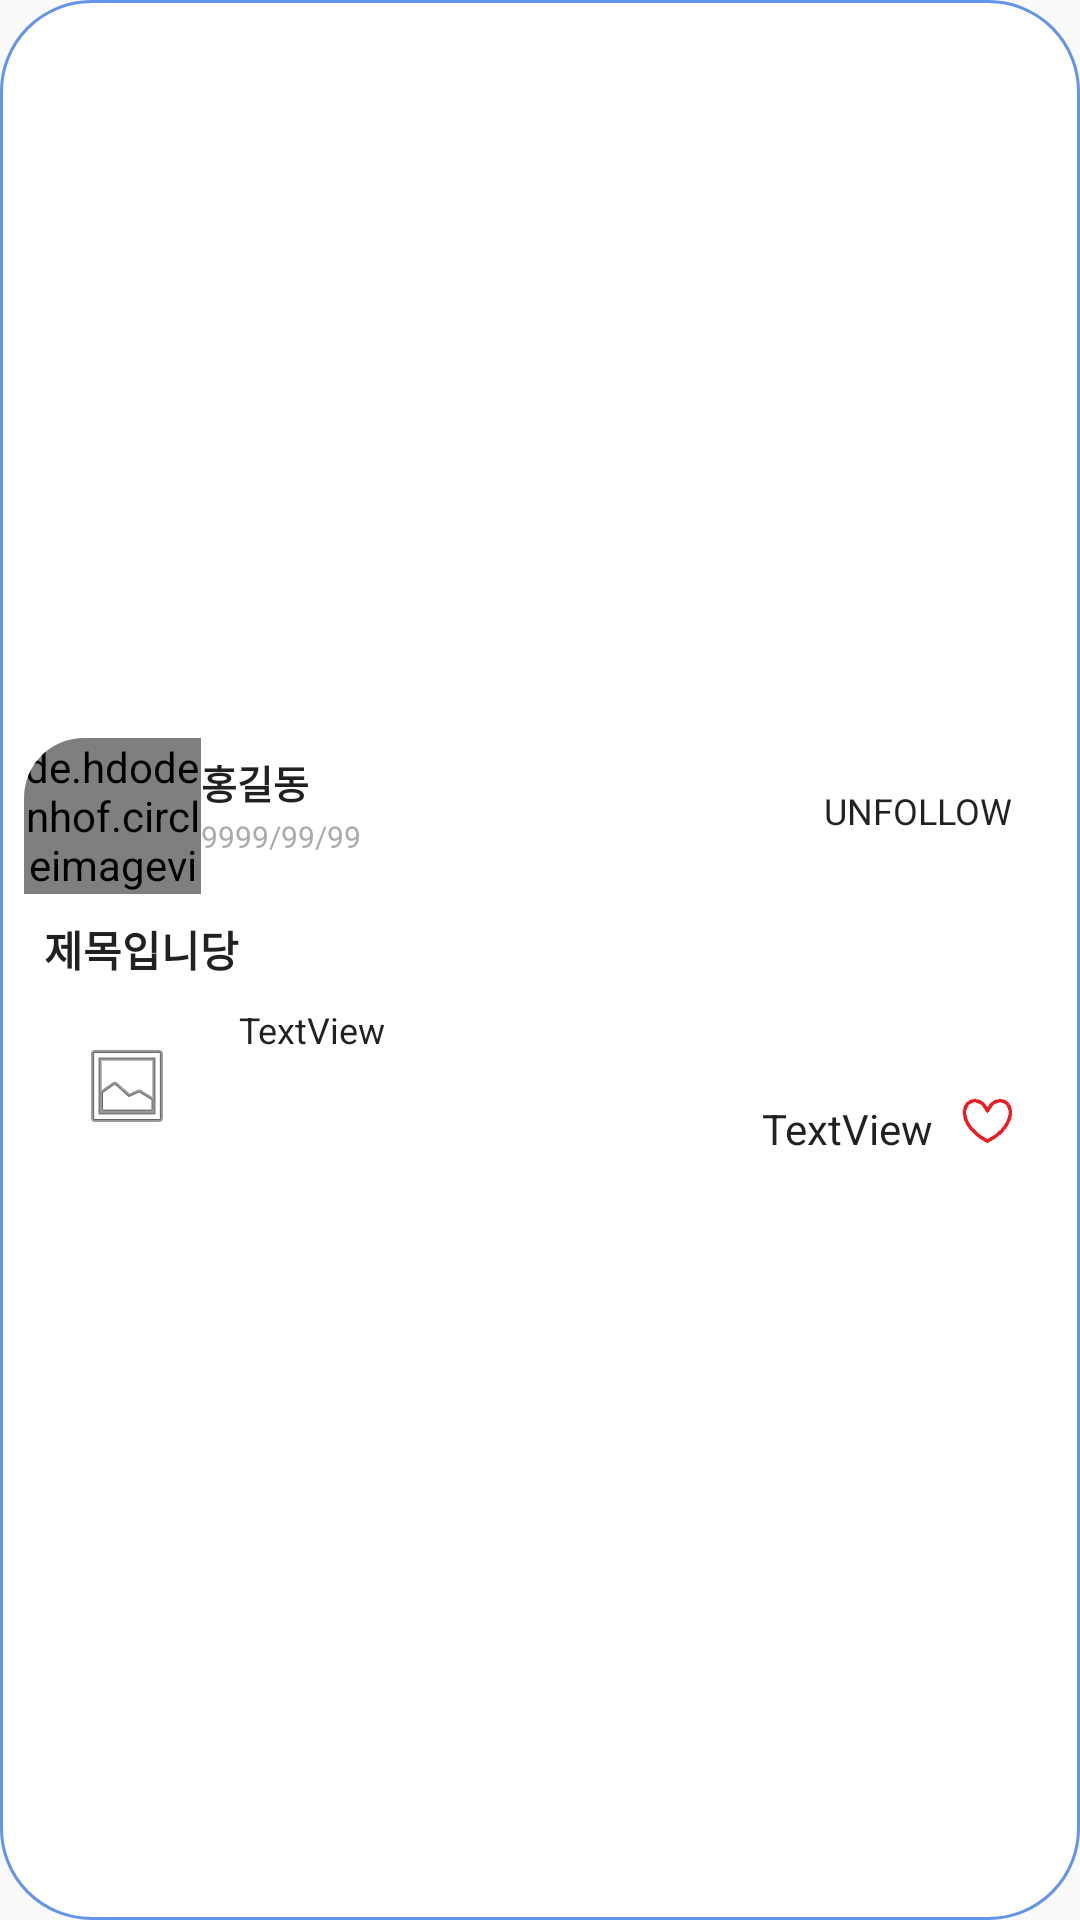

Point at icon controls on the screen. Image size 1080 × 1920, points as (x=x, y=y).
gallery: (x=127, y=1086)
heart: (x=987, y=1120)
